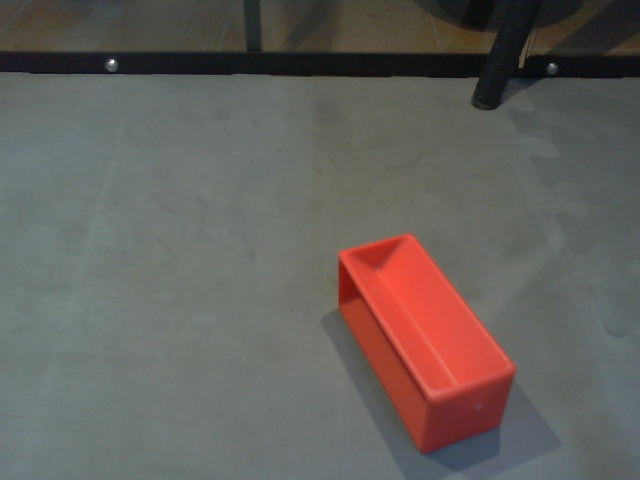RedSample: (334, 230, 518, 456)
